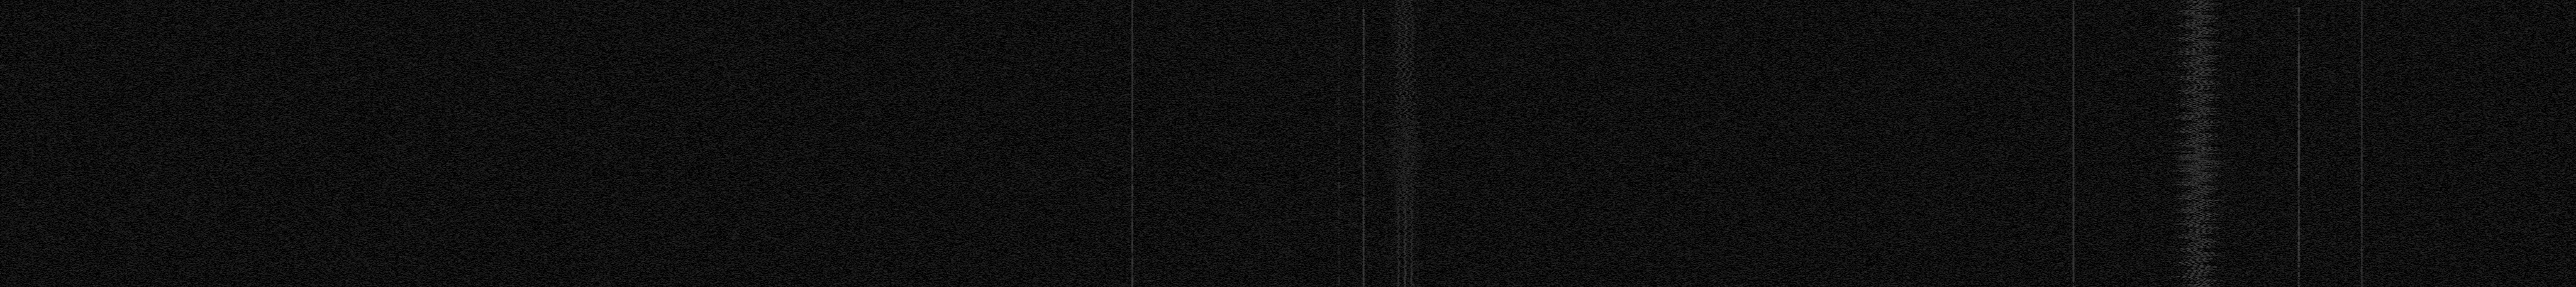wv_am: (1130, 0, 1134, 287), (2072, 0, 2075, 287)
wv_cw: (2361, 0, 2364, 287)
wv_lsb: (2297, 7, 2300, 287), (1337, 62, 1341, 272), (1337, 5, 1341, 62), (1337, 274, 1341, 287)
wv_usb: (1362, 5, 1365, 287)
wv_wbfm: (2165, 0, 2229, 287), (1377, 0, 1433, 287)
